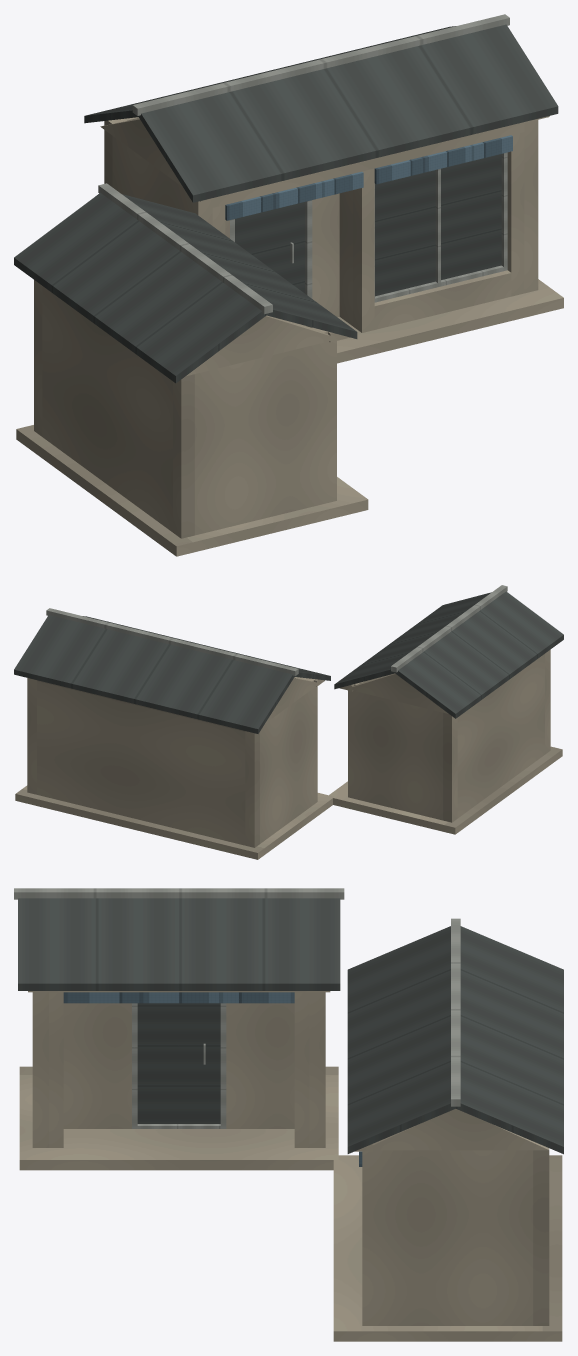
Rendered from kyiv.glb.
The picture shows the model from 3 angles, top to bottom: view 1: azimuth 30°, elevation 25°; view 2: azimuth 150°, elevation 25°; view 3: azimuth 270°, elevation 25°; orthographic projection. The views are drawn at different scales.
Visible parts, largest first — view 1: kyiv; view 2: kyiv; view 3: kyiv.
Part boxes in pixels (box(x1,y1,x2,y2)): kyiv: box(14, 14, 563, 556); kyiv: box(14, 585, 563, 859); kyiv: box(14, 888, 563, 1341).
Size of the model in its own units: 7.03 by 3 by 6.1.
1 material, 1 textured.
